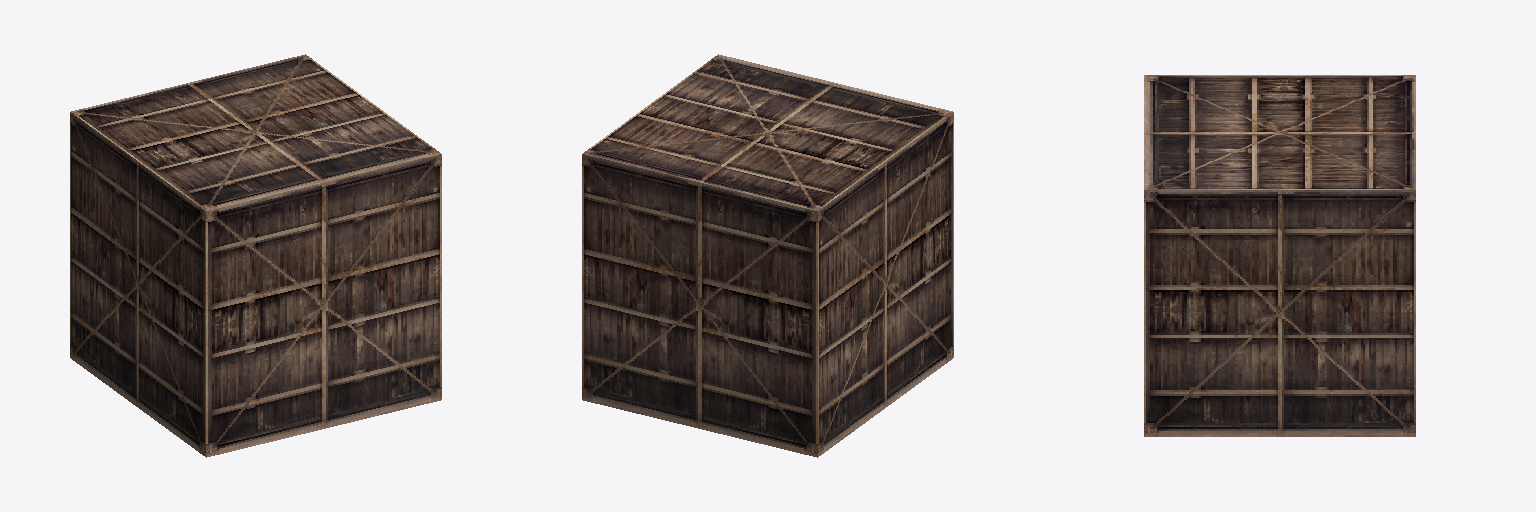
3 renders of one model, left to right at view 1: azimuth 30°, elevation 25°; view 2: azimuth 150°, elevation 25°; view 3: azimuth 270°, elevation 25°, orthographic.
Parts seen in each view (by area): view 1: Cube; view 2: Cube; view 3: Cube.
Boxes of the visible parts, <box> form: Cube: <box>70,54,441,457</box>; Cube: <box>582,54,953,457</box>; Cube: <box>1144,75,1415,436</box>.
Size of the model in its own units: 2 by 2 by 2.
1 materials, 1 textured.